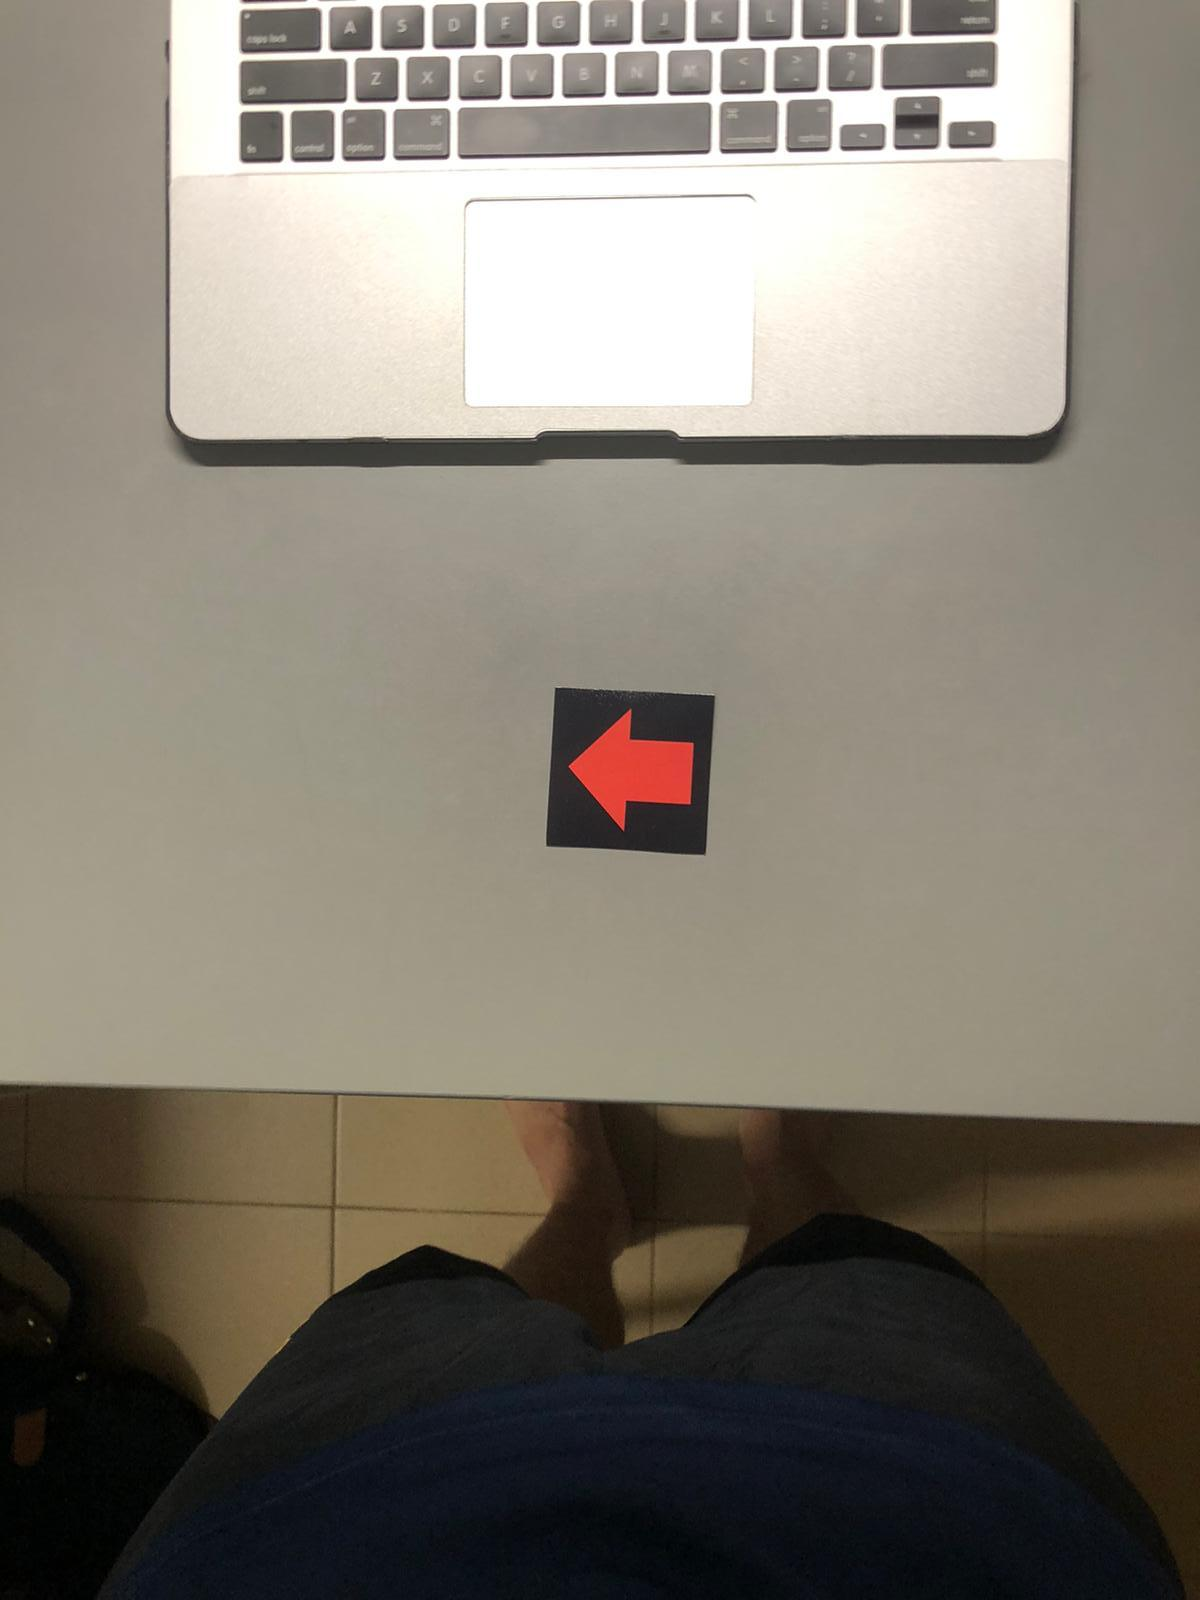Left Arrow: (542, 688, 711, 853)
